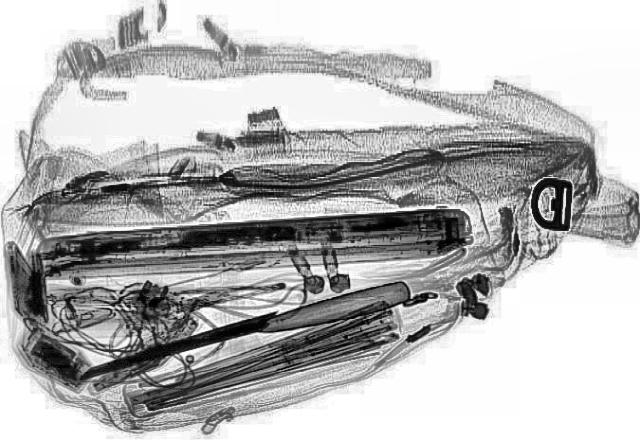Knife: (69, 276, 417, 388)
